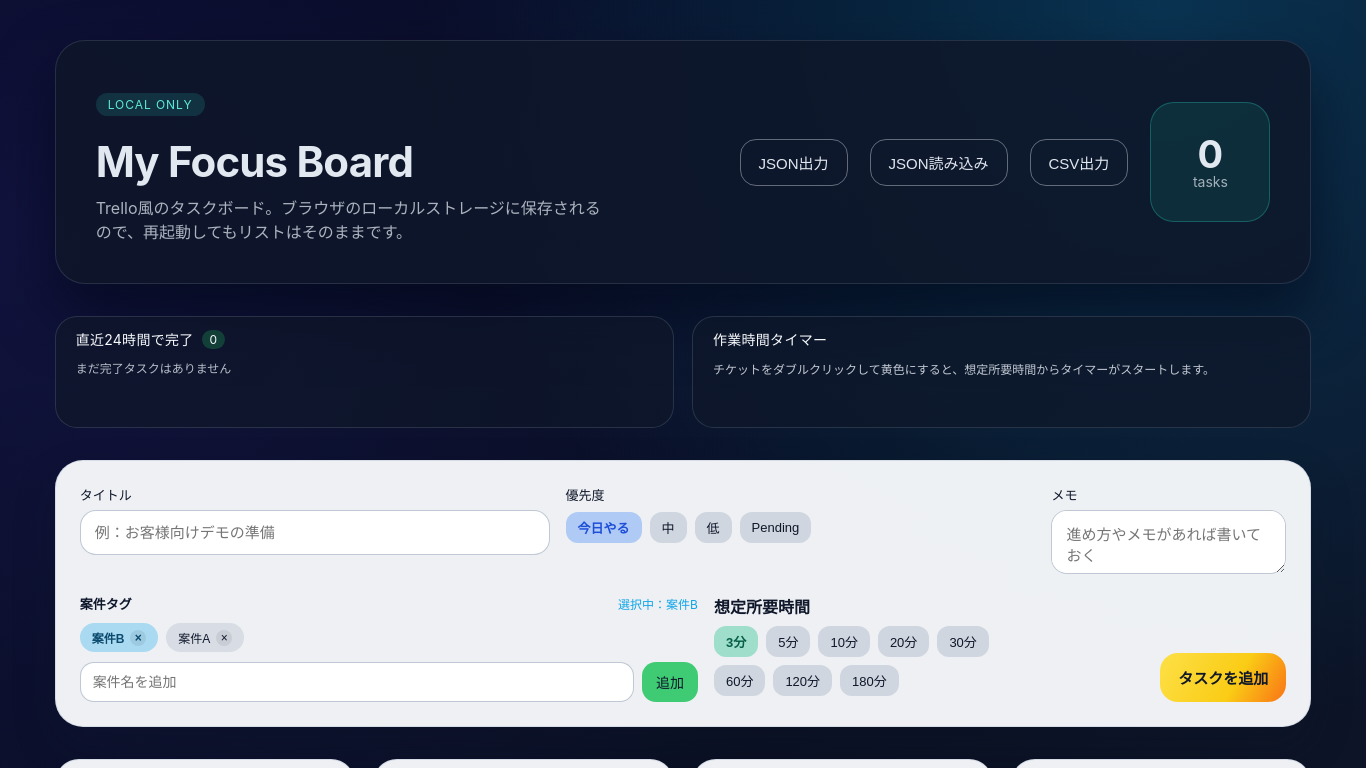
Test: renames and drag-reorders project tags
Earlier steps of the test are not shown.
Expected: the button titled "ダブルクリックで編集" shows "案件B", [80,623,158,652]
Double-click the button titled "ダブルクリックで編集" at x=205, y=638, box [166,623,244,652]
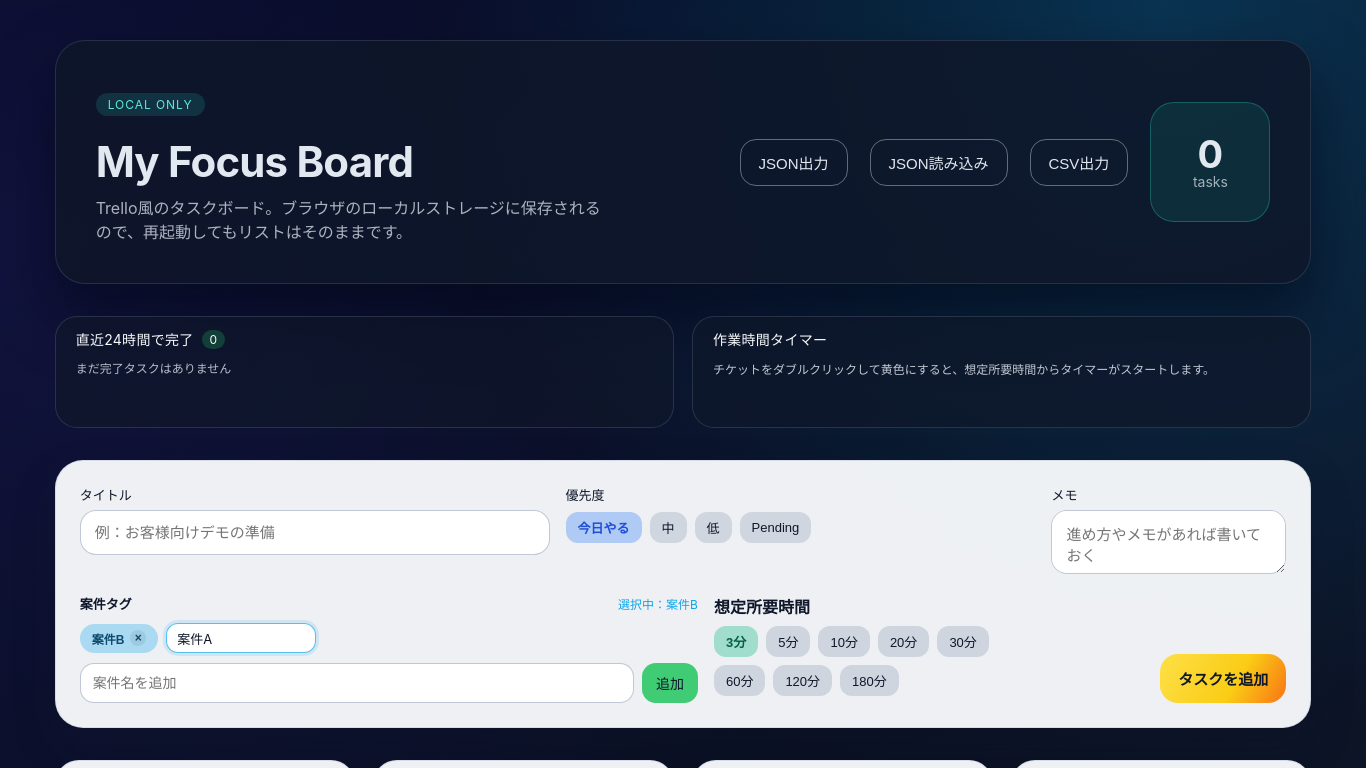
Replace the text in the field showing "案件A" with "案件C" at x=241, y=638, box [166,623,316,653]
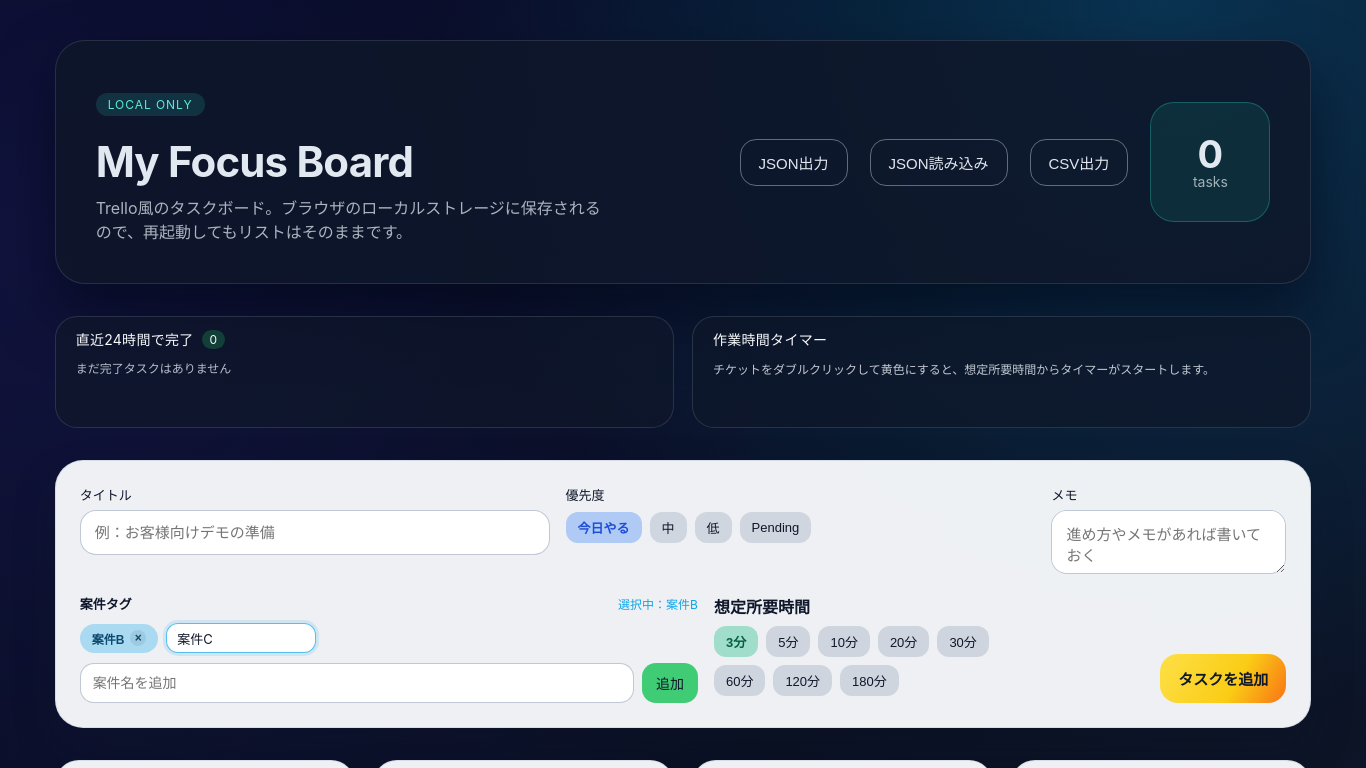
Press Enter in the field showing "案件A", box [166,623,316,653]
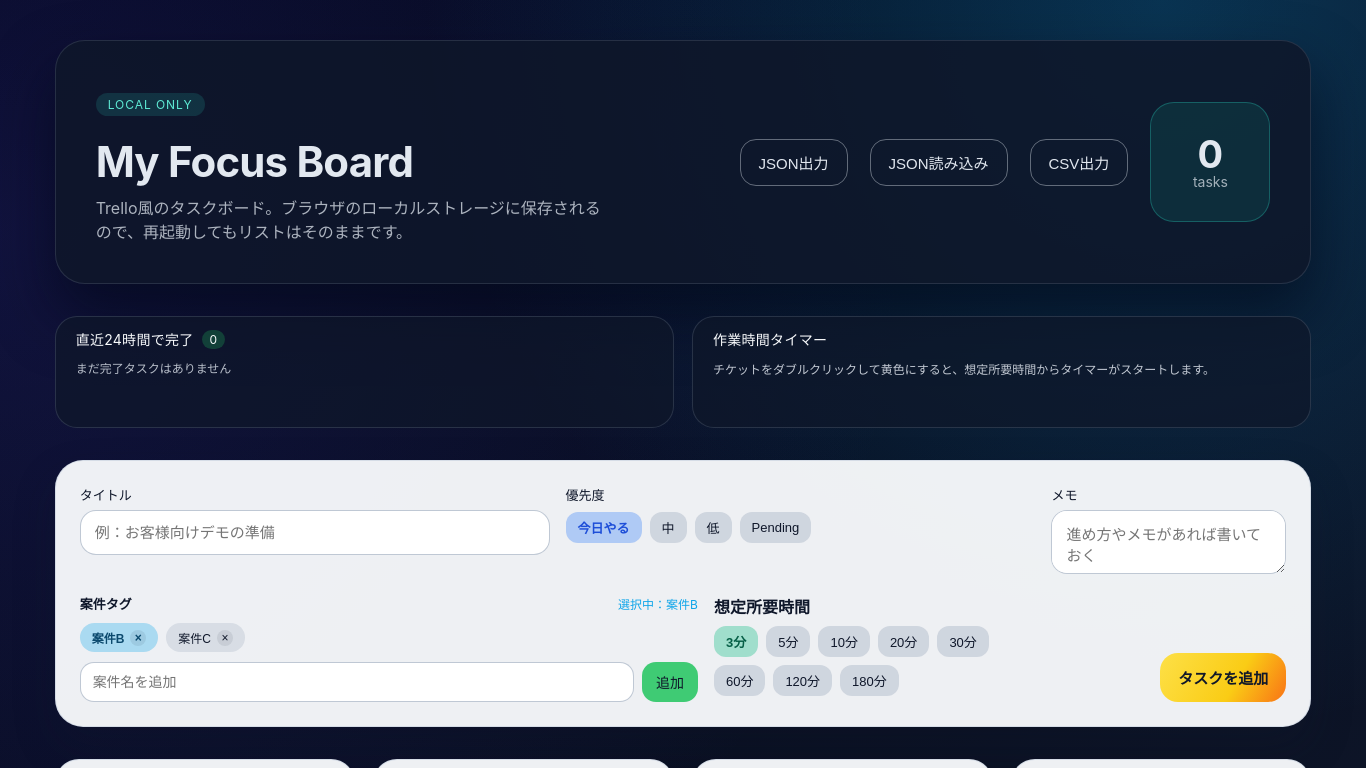
Now the button "案件C ×" is shown, box [166,623,245,652]
